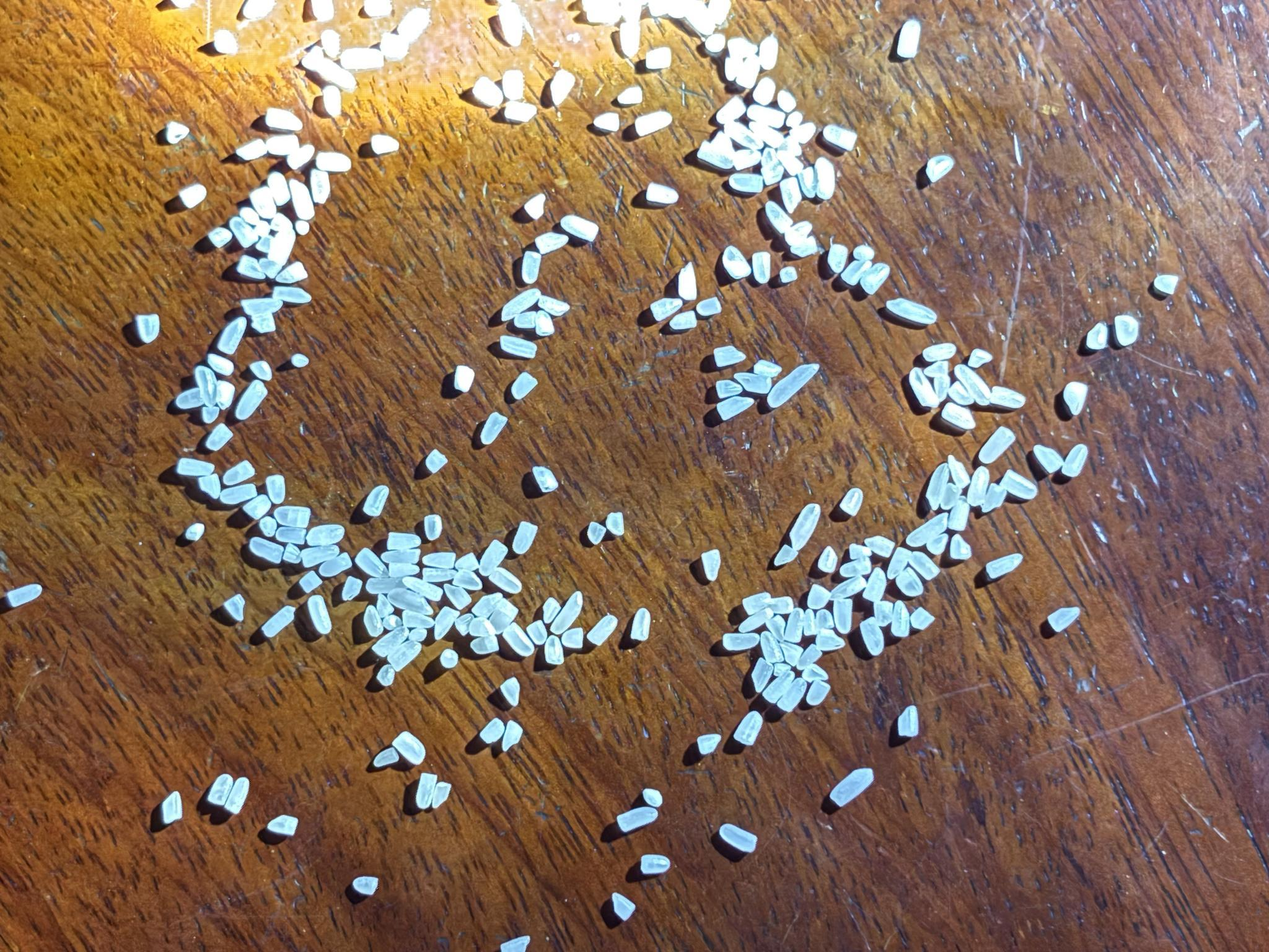Rice-th-y-nh: (301, 45, 358, 97), (765, 358, 819, 412), (828, 762, 875, 811), (885, 289, 937, 331), (905, 506, 950, 551), (952, 359, 993, 408), (547, 589, 587, 639), (786, 501, 824, 553), (264, 215, 299, 271), (500, 281, 542, 325), (977, 422, 1017, 468), (492, 0, 530, 48), (233, 376, 270, 423), (905, 365, 942, 411), (718, 818, 759, 859), (386, 582, 431, 619), (339, 41, 385, 77), (921, 461, 954, 511), (394, 2, 431, 46), (999, 465, 1039, 505), (645, 0, 709, 25), (723, 117, 764, 156), (214, 314, 250, 358), (285, 176, 319, 222), (560, 208, 599, 248), (616, 800, 658, 837), (500, 619, 537, 661), (485, 595, 520, 639), (808, 156, 842, 201), (634, 104, 673, 143), (391, 727, 428, 768), (696, 137, 735, 175), (372, 621, 410, 660), (260, 602, 297, 642), (715, 389, 755, 426), (731, 708, 766, 750), (303, 593, 336, 637), (985, 547, 1024, 584), (760, 667, 796, 707), (828, 571, 868, 607), (239, 289, 284, 321), (475, 537, 509, 579), (963, 464, 995, 508), (386, 636, 422, 675), (264, 102, 303, 138), (682, 0, 718, 39), (856, 615, 888, 658), (821, 118, 858, 155), (353, 544, 389, 582), (499, 329, 538, 364), (191, 364, 222, 408), (720, 242, 753, 283), (614, 18, 647, 59), (893, 18, 925, 60), (471, 73, 506, 111), (247, 533, 285, 568), (306, 518, 345, 552), (273, 499, 312, 533), (476, 409, 509, 449), (299, 539, 340, 571), (402, 573, 444, 604), (488, 562, 524, 598), (738, 602, 775, 637), (584, 611, 619, 648), (989, 379, 1026, 414), (858, 260, 892, 298), (775, 676, 808, 715), (746, 99, 785, 132), (1059, 378, 1091, 418), (1059, 441, 1091, 481), (885, 599, 916, 640), (222, 775, 253, 816), (733, 51, 764, 92), (1047, 601, 1082, 637), (547, 66, 577, 108), (908, 548, 942, 585), (1031, 440, 1065, 477), (377, 28, 411, 65), (226, 213, 260, 250), (762, 198, 795, 236), (733, 367, 772, 399), (860, 565, 891, 605), (175, 452, 215, 483), (271, 280, 312, 310), (247, 184, 280, 221), (748, 118, 785, 151), (674, 261, 703, 303), (581, 0, 623, 29), (360, 482, 392, 520), (314, 146, 352, 178), (509, 518, 540, 557), (263, 168, 294, 207), (219, 478, 258, 509), (893, 566, 927, 601), (776, 175, 805, 216), (756, 146, 785, 187), (715, 92, 748, 128), (318, 549, 354, 582), (204, 771, 236, 808), (430, 604, 461, 642), (939, 400, 977, 431), (884, 544, 914, 583), (649, 293, 683, 327), (222, 456, 256, 490), (503, 95, 538, 128), (644, 177, 680, 209), (728, 167, 765, 198), (305, 168, 336, 205), (943, 454, 974, 491), (828, 597, 857, 636), (411, 771, 440, 810), (754, 33, 783, 72), (383, 541, 422, 570), (284, 140, 317, 174), (780, 605, 808, 645), (274, 257, 309, 289), (239, 0, 282, 26), (921, 337, 957, 368), (1111, 312, 1142, 348), (924, 150, 955, 186), (756, 631, 787, 667), (722, 627, 760, 656), (471, 588, 504, 621), (839, 255, 872, 288), (534, 227, 568, 259), (712, 340, 746, 372), (235, 133, 269, 165), (203, 420, 235, 454), (132, 311, 163, 346), (265, 130, 301, 160), (498, 67, 528, 103), (157, 789, 186, 826), (946, 496, 974, 534), (441, 580, 473, 613), (235, 252, 267, 285), (835, 485, 865, 520), (365, 570, 400, 600), (979, 481, 1008, 517), (5, 582, 43, 609), (740, 586, 772, 618), (730, 143, 763, 174), (266, 809, 299, 840), (537, 290, 571, 320), (509, 369, 539, 403), (517, 249, 545, 285), (747, 250, 775, 286), (838, 554, 874, 582), (748, 656, 775, 693), (421, 562, 458, 589), (863, 531, 895, 562), (946, 379, 977, 411), (530, 462, 560, 495), (608, 889, 637, 923), (1083, 320, 1112, 354), (789, 233, 823, 262), (245, 308, 279, 337), (895, 704, 923, 739), (385, 527, 421, 554), (628, 607, 655, 643), (701, 0, 737, 27), (814, 625, 845, 656), (177, 180, 208, 211), (241, 492, 272, 523), (783, 218, 814, 249), (639, 849, 671, 879), (726, 32, 758, 62), (211, 26, 241, 58), (750, 75, 779, 108), (709, 129, 738, 162), (698, 547, 725, 582), (319, 84, 346, 119), (422, 546, 458, 572), (400, 607, 436, 633), (644, 42, 674, 73), (204, 349, 235, 379), (908, 603, 938, 634), (777, 638, 806, 670), (451, 566, 483, 595), (478, 714, 507, 746), (824, 241, 851, 275), (360, 604, 387, 638), (541, 633, 568, 667), (262, 472, 289, 506), (499, 719, 525, 754), (795, 165, 820, 201), (803, 677, 832, 708), (196, 470, 225, 501), (174, 384, 205, 413), (796, 641, 824, 673), (318, 27, 345, 60), (497, 675, 524, 708), (614, 0, 649, 25), (776, 148, 805, 178), (765, 591, 796, 619), (805, 581, 832, 613), (451, 362, 478, 394), (221, 592, 248, 624), (937, 480, 962, 514), (763, 612, 788, 646), (295, 568, 324, 597), (713, 374, 743, 402), (470, 632, 501, 659), (521, 191, 548, 222), (276, 521, 307, 548), (870, 597, 896, 629), (947, 532, 973, 564), (213, 378, 238, 411), (387, 557, 420, 582), (306, 0, 340, 24), (772, 542, 800, 571), (788, 118, 817, 146), (1153, 269, 1181, 298), (593, 107, 622, 135), (524, 617, 551, 647), (669, 308, 699, 335), (753, 355, 783, 382), (428, 780, 454, 811), (923, 357, 954, 383), (497, 930, 533, 952), (370, 130, 399, 157), (163, 118, 190, 147), (339, 573, 365, 603), (815, 545, 841, 575), (423, 447, 449, 477), (927, 372, 953, 402), (421, 512, 446, 543), (695, 729, 722, 757), (695, 293, 723, 320), (967, 344, 994, 372), (248, 356, 275, 384), (206, 224, 234, 251), (372, 744, 400, 771), (539, 594, 563, 625), (561, 624, 587, 652), (352, 872, 380, 898), (532, 309, 557, 338), (361, 0, 395, 21), (924, 531, 951, 557), (453, 549, 479, 576), (467, 614, 494, 640), (617, 82, 644, 108), (256, 253, 282, 280), (268, 210, 295, 236), (721, 54, 745, 82), (800, 663, 829, 686), (704, 30, 728, 57), (777, 134, 804, 158), (604, 510, 627, 538), (280, 541, 305, 566), (373, 592, 396, 619), (512, 308, 539, 331), (775, 89, 798, 115), (585, 520, 608, 546), (799, 609, 820, 637), (851, 241, 875, 265), (847, 540, 873, 562), (375, 662, 397, 688), (642, 785, 665, 809), (183, 520, 206, 544), (438, 646, 460, 671), (813, 607, 835, 632), (258, 514, 280, 539), (198, 403, 221, 426), (254, 233, 277, 255), (238, 205, 261, 227), (454, 610, 475, 634), (769, 660, 794, 679), (778, 264, 799, 286), (290, 350, 310, 371), (784, 109, 803, 130), (381, 613, 401, 632), (293, 218, 312, 238), (167, 0, 201, 11), (408, 626, 428, 644), (254, 219, 272, 238)
